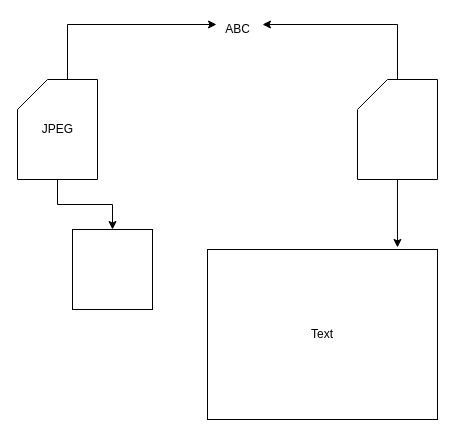
Some shapes in this 455 by 437 pixel diagram are drawn without their labels. The centre of each missing label's shape, as x and y in pixels:
"Bild" belongs at pixel 112 269.
"TXT" belongs at pixel 397 129.
